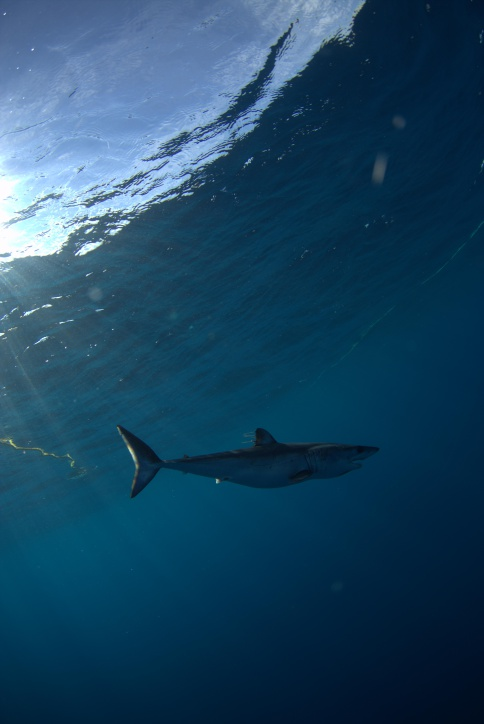Mako: (109, 410, 402, 519)
